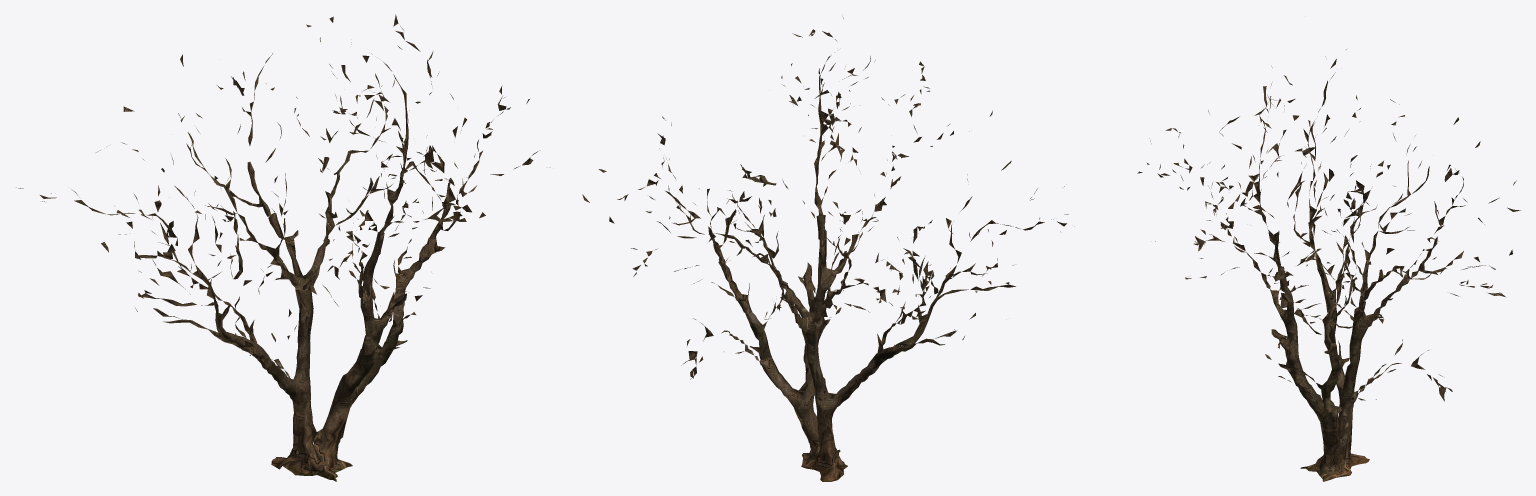
The model's file is jacaranda_L0_madera.glb.
3 renders of one model, left to right at view 1: azimuth 30°, elevation 25°; view 2: azimuth 150°, elevation 25°; view 3: azimuth 270°, elevation 25°, orthographic. The views are drawn at different scales.
Visible parts, largest first — view 1: jacaranda_tree_LOD0; view 2: jacaranda_tree_LOD0; view 3: jacaranda_tree_LOD0.
Part boxes in pixels (x1=…): jacaranda_tree_LOD0: x1=16, y1=14, x2=549, y2=481; jacaranda_tree_LOD0: x1=582, y1=16, x2=1074, y2=481; jacaranda_tree_LOD0: x1=1137, y1=49, x2=1520, y2=481.
Size of the model in its own units: 22.34 by 18.6 by 16.42.
Materials: 2 (2 with a texture image).
